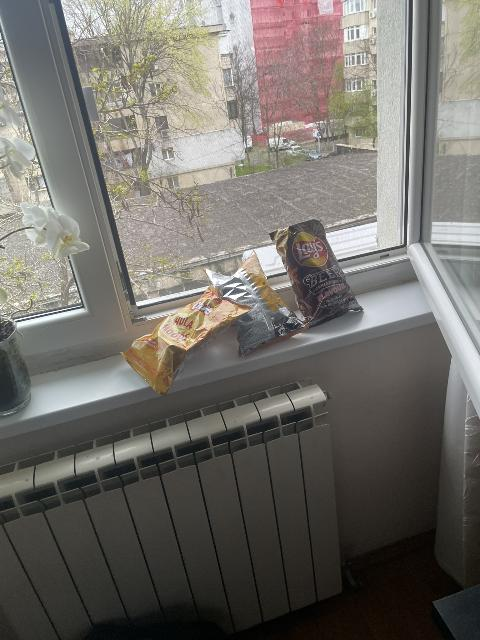Chio Cascaval 125g: (208, 256, 302, 357)
Chio Hula Hoops Cheese 70g: (118, 281, 248, 391)
Lays Beef Grilled Ribs 125g: (270, 219, 363, 328)
